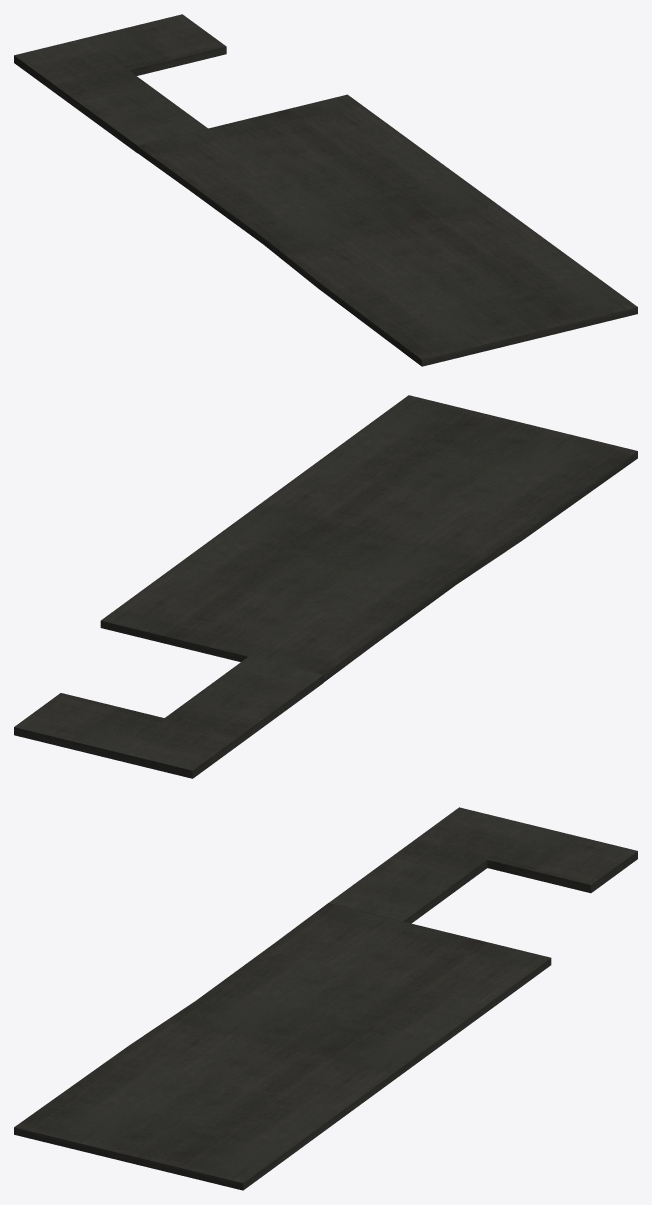
File: Techo_Edificacion.fbx
3 views of the same model, one above another, from view 1: azimuth 30°, elevation 25°; view 2: azimuth 150°, elevation 25°; view 3: azimuth 330°, elevation 25° (orthographic). The views are drawn at different scales.
Visible parts, largest first — view 1: Techo; view 2: Techo; view 3: Techo.
Part boxes in pixels (bbox=[...]): Techo: bbox=[14, 14, 637, 366]; Techo: bbox=[14, 395, 637, 778]; Techo: bbox=[14, 807, 637, 1190].
Size of the model in its own units: 1052 by 35.67 by 3492.
Materials: 1 (1 with a texture image).
